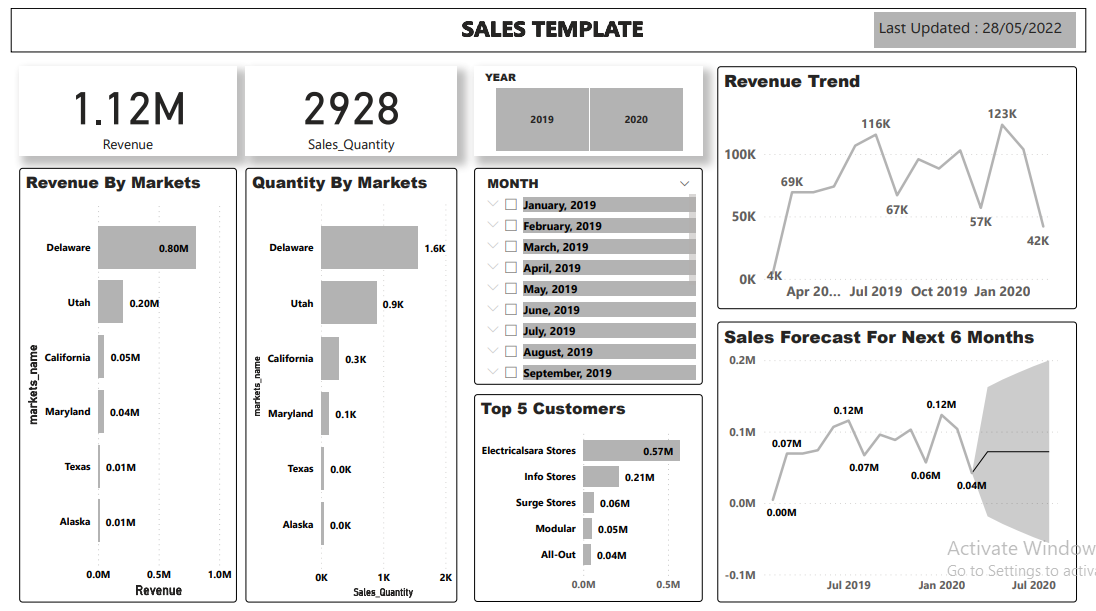

What the dashboard file says about the page in this screenshot:
{"tool":"powerbi","page":{"name":"Sale","canvas":[1280,720],"ordinal":0},"visuals":[{"type":"card","fields":{"Values":["Key_Measures.Revenue"]},"box":[10.1,70.6,259.2,106.6],"z":0},{"type":"textbox","box":[0,0,1280,53.8],"z":1000},{"type":"card","fields":{"Values":["Key_Measures.Sales_Quantity"]},"box":[279.4,70.6,252,106.6],"z":2000},{"type":"barChart","title":"Revenue By Markets","fields":{"Y":["Key_Measures.Revenue"],"Category":["markets.markets_name"]},"box":[10.1,191.5,259.2,515.5],"z":3000},{"type":"barChart","title":"Quantity By Markets","fields":{"Y":["Key_Measures.Sales_Quantity"],"Category":["markets.markets_name"]},"box":[279.4,191.5,252,515.5],"z":4000},{"type":"slicer","fields":{"Values":["date.year"]},"box":[551.5,70.6,272.2,106.6],"z":5000},{"type":"slicer","fields":{"Values":["date.cy_date","date.year"]},"box":[551.5,191.5,272.2,257.8],"z":6000},{"type":"barChart","title":"Top 5 Customers","fields":{"Y":["Key_Measures.Revenue"],"Category":["customers.custmer_name"]},"box":[551.5,460.8,272.2,246.2],"z":7000},{"type":"lineChart","title":"Revenue Trend","fields":{"Y":["Key_Measures.Revenue"],"Category":["date.cy_date"]},"box":[841,70.6,427.7,289.4],"z":8000},{"type":"lineChart","title":"Sales Forecast For Next 6 Months","fields":{"Category":["date.cy_date"],"Y":["Sum(transactions.sales_amount)"]},"box":[841,374.4,427.7,332.6],"z":9000},{"type":"textbox","box":[1028.2,5.8,240.5,43.2],"z":10000}]}

Visuals, with their boxes in screenshot pixels (x1, y1, x2, y2), scaled from the page's 1280x720 canvas onto the 1096x611 screenshot:
card - Key_Measures.Revenue: Rect(9, 60, 231, 150)
textbox: Rect(0, 0, 1095, 46)
card - Key_Measures.Sales_Quantity: Rect(239, 60, 455, 150)
"Revenue By Markets" barChart: Rect(9, 163, 231, 600)
"Quantity By Markets" barChart: Rect(239, 163, 455, 600)
slicer - date.year: Rect(472, 60, 705, 150)
slicer - date.cy_date x date.year: Rect(472, 163, 705, 381)
"Top 5 Customers" barChart: Rect(472, 391, 705, 600)
"Revenue Trend" lineChart: Rect(720, 60, 1086, 306)
"Sales Forecast For Next 6 Months" lineChart: Rect(720, 318, 1086, 600)
textbox: Rect(880, 5, 1086, 42)
